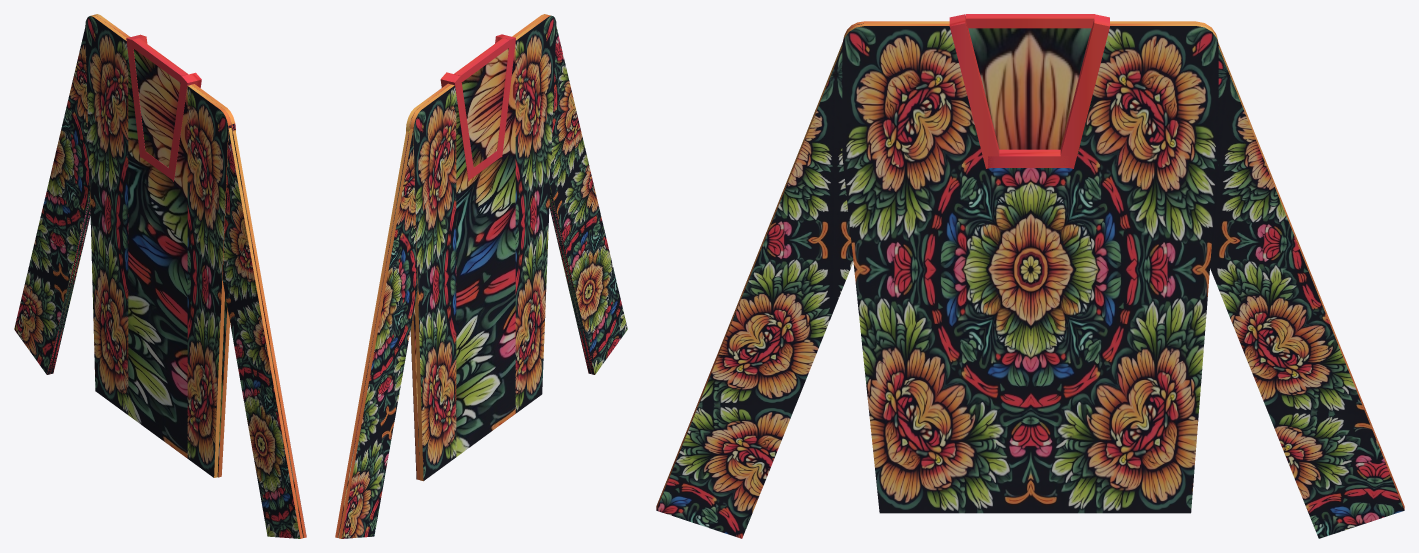
Rendered from Guayabera1_1.obj.
3 views of the same model, side by side, from view 1: azimuth 30°, elevation 25°; view 2: azimuth 150°, elevation 25°; view 3: azimuth 270°, elevation 25° (orthographic). The views are drawn at different scales.
Parts seen in each view (by area): view 1: Guayabera1; view 2: Guayabera1; view 3: Guayabera1.
Boxes of the visible parts, x1=… form: Guayabera1: x1=14, y1=14, x2=306, y2=538; Guayabera1: x1=335, y1=14, x2=627, y2=538; Guayabera1: x1=656, y1=14, x2=1404, y2=538.
Size of the model in its own units: 0.0201 by 0.5339 by 0.6959.
Materials: 1 (1 with a texture image).
